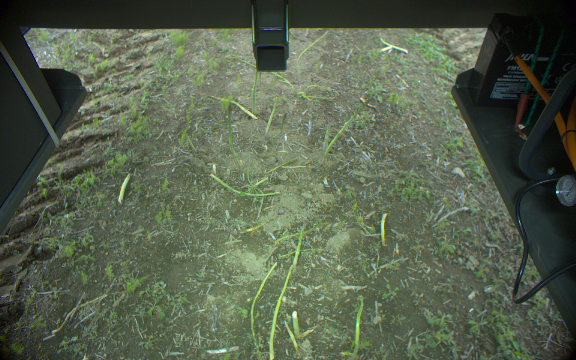aspa: (267, 263, 297, 360), (324, 96, 375, 153), (249, 263, 278, 360), (206, 173, 284, 199), (350, 296, 376, 360), (285, 225, 314, 270), (263, 86, 284, 134), (281, 319, 304, 360), (225, 104, 238, 161), (113, 172, 131, 205), (379, 211, 391, 252), (249, 70, 259, 117), (321, 116, 333, 154), (289, 311, 303, 339)
